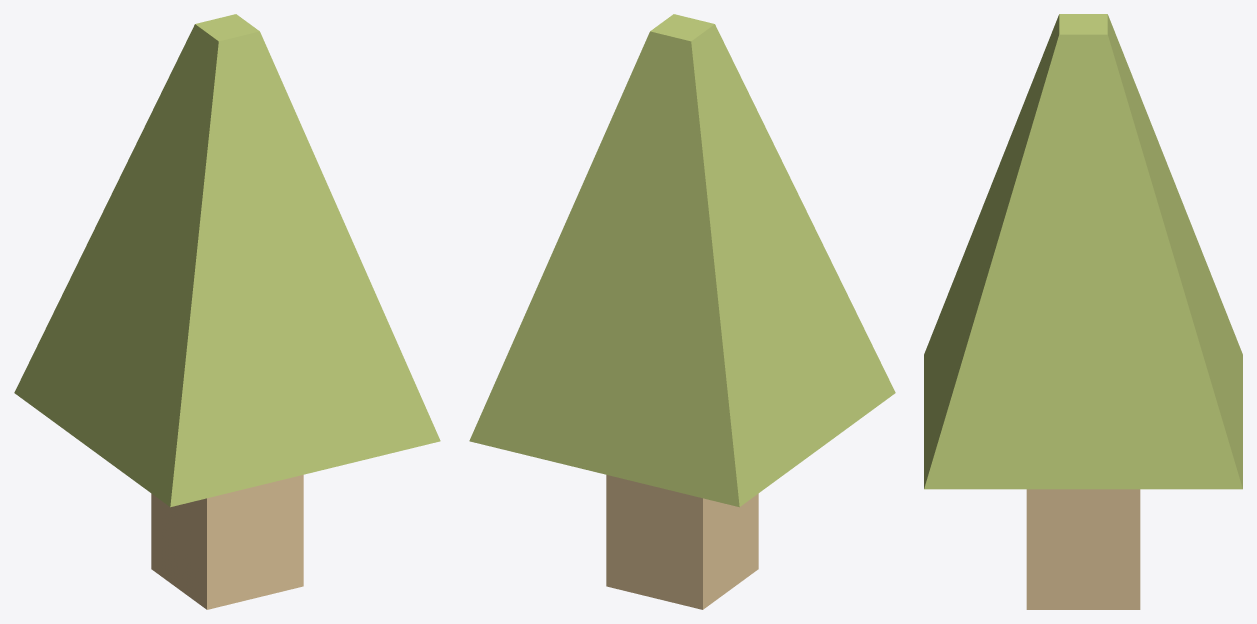
File: Tree_4.fbx
The picture shows the model from 3 angles, left to right: view 1: azimuth 30°, elevation 25°; view 2: azimuth 150°, elevation 25°; view 3: azimuth 270°, elevation 25°; orthographic projection. The views are drawn at different scales.
Parts seen in each view (by area): view 1: Tree.003; view 2: Tree.003; view 3: Tree.003.
Boxes of the visible parts, x1,y1,x2,y2 form: Tree.003: (14, 14, 440, 609); Tree.003: (469, 14, 895, 609); Tree.003: (924, 14, 1242, 609).
Bounding box in the file's own units: 199 × 386 × 199.
